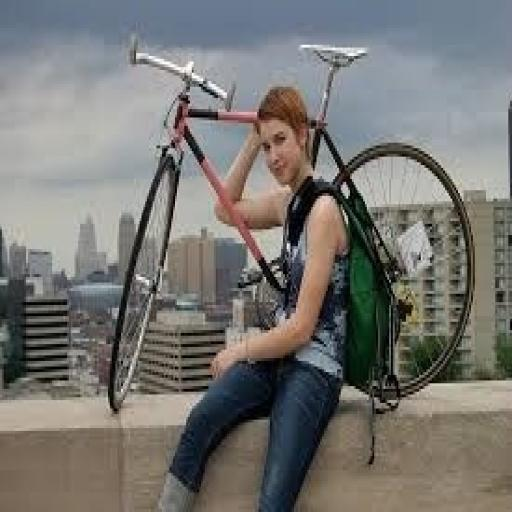cycling: (154, 81, 354, 509)
